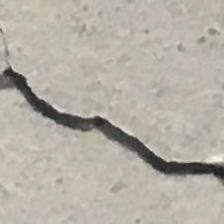Crack: (0, 57, 224, 201)
